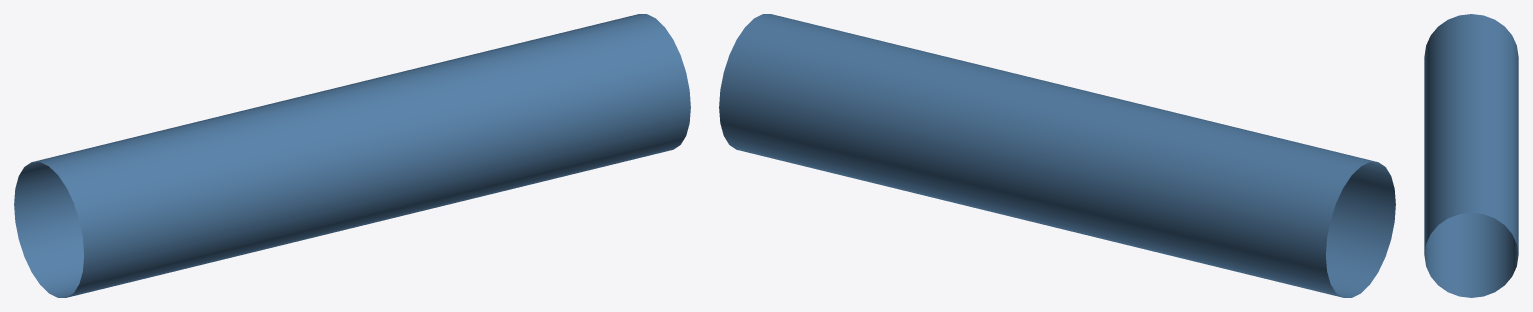
The model's file is Pipe_Medium.fbx.
The picture shows the model from 3 angles, left to right: view 1: azimuth 30°, elevation 25°; view 2: azimuth 150°, elevation 25°; view 3: azimuth 270°, elevation 25°; orthographic projection. The views are drawn at different scales.
Parts seen in each view (by area): view 1: Pipe_Medium; view 2: Pipe_Medium; view 3: Pipe_Medium.
Part boxes in pixels (x1=…): Pipe_Medium: x1=14, y1=14, x2=690, y2=297; Pipe_Medium: x1=719, y1=14, x2=1395, y2=297; Pipe_Medium: x1=1424, y1=14, x2=1518, y2=297.
Size of the model in its own units: 200 by 40 by 40.
